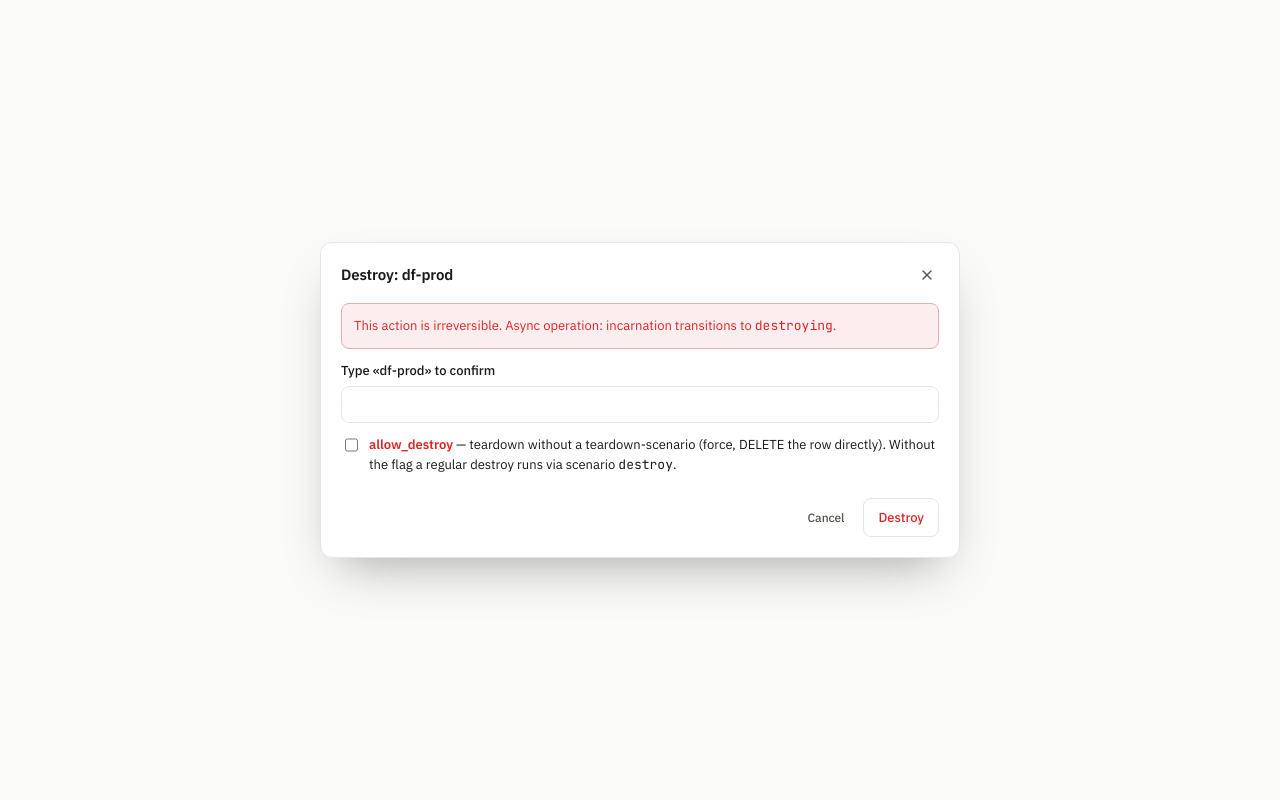
it: freeze consent on destroy, rerun-last and upgrade › a 409 freeze-active on destroy opens the consent instead of a bare error
The width and height of the screenshot is (1280, 800).
Type "df-prod" into the field with test id "destroy-confirm-input" at (640, 404), box left=341, top=386, right=939, bottom=423
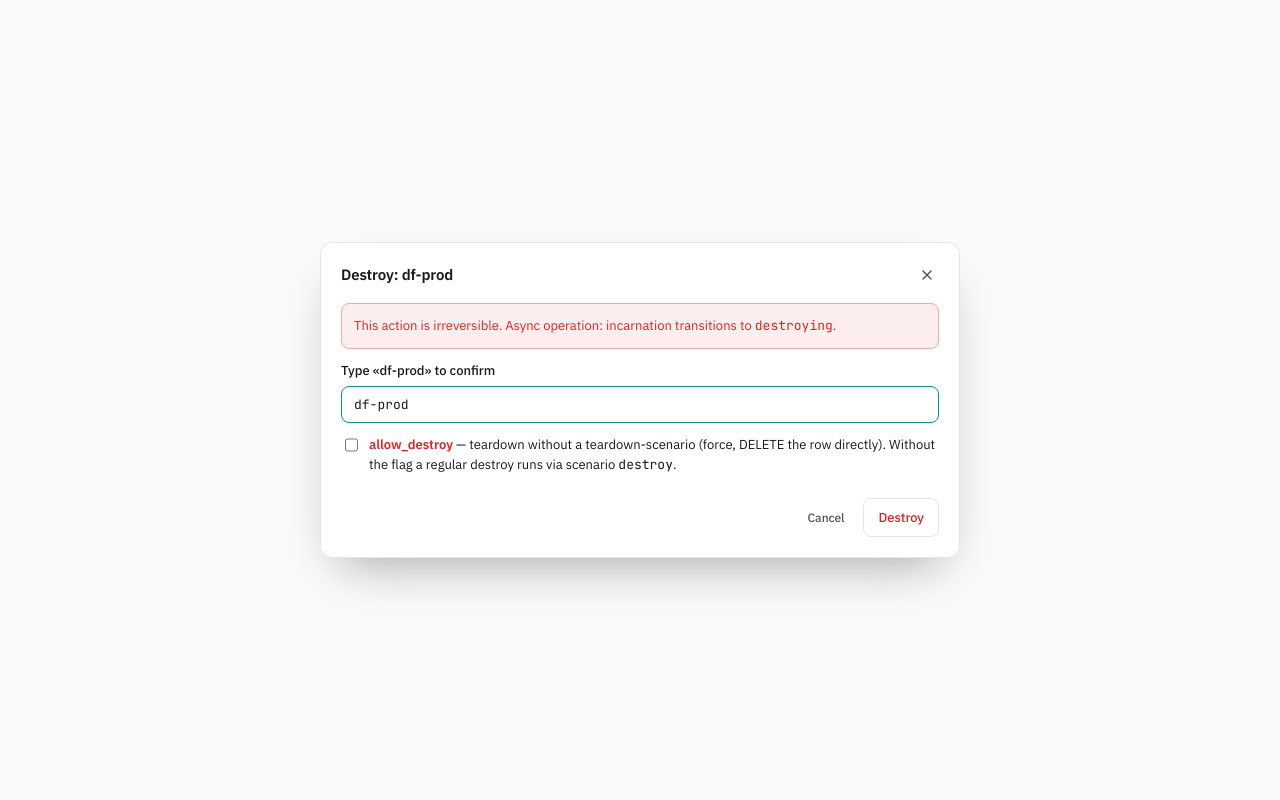
Click the button with test id "destroy-submit" at (901, 518), box left=864, top=498, right=939, bottom=537
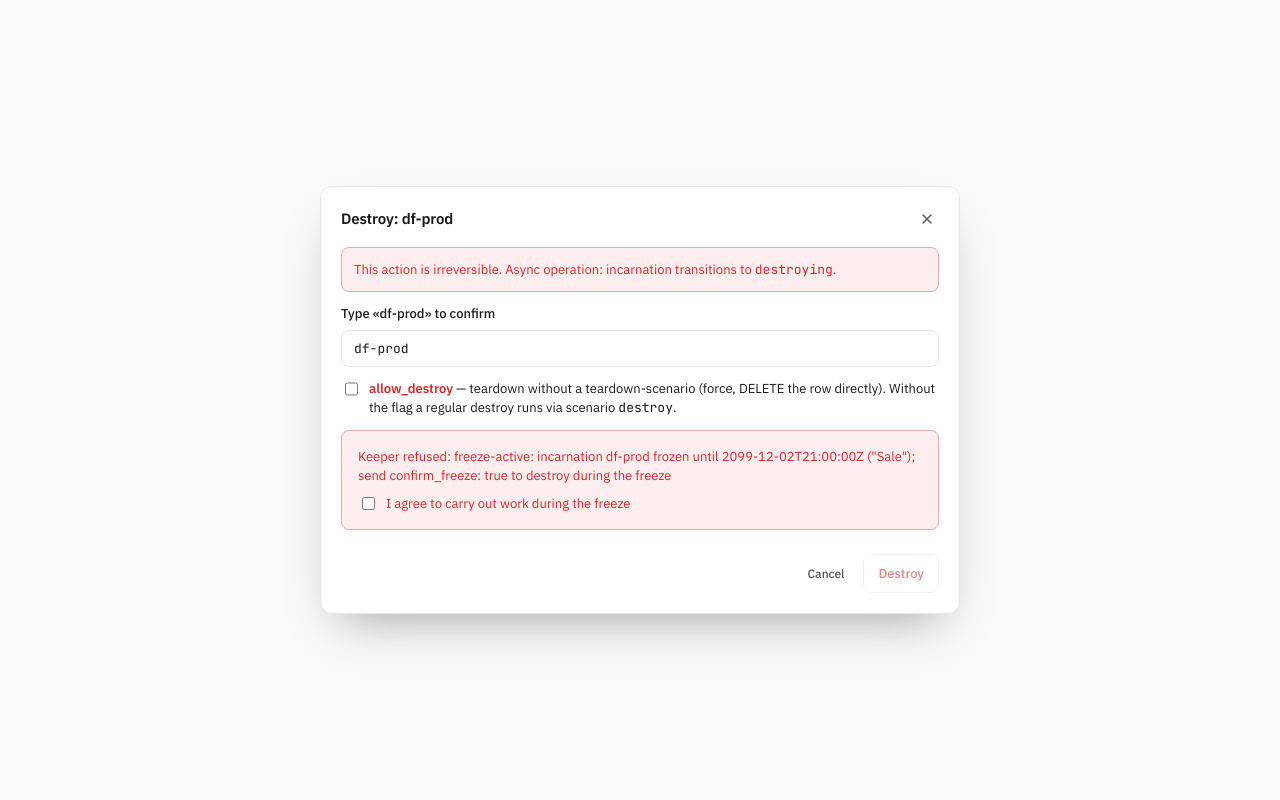
Expected: the element with test id "freeze-consent-block" shows "Keeper refused: freeze-active", left=358, top=448, right=915, bottom=484
Expected: the button with test id "destroy-submit" is disabled, left=864, top=554, right=939, bottom=593
Click the checkbox with test id "freeze-consent" at (368, 504), box left=362, top=497, right=375, bottom=510
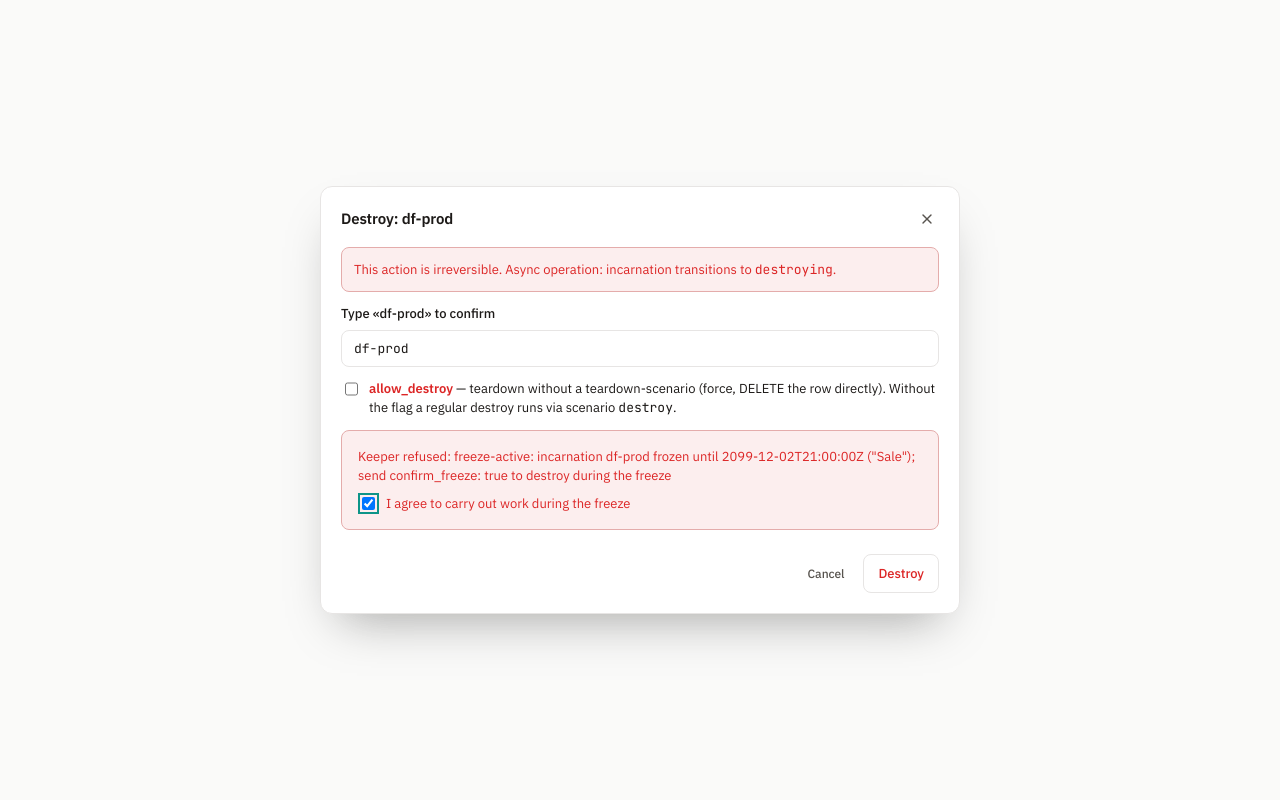
Expected: the button with test id "destroy-submit" is enabled, left=864, top=554, right=939, bottom=593
